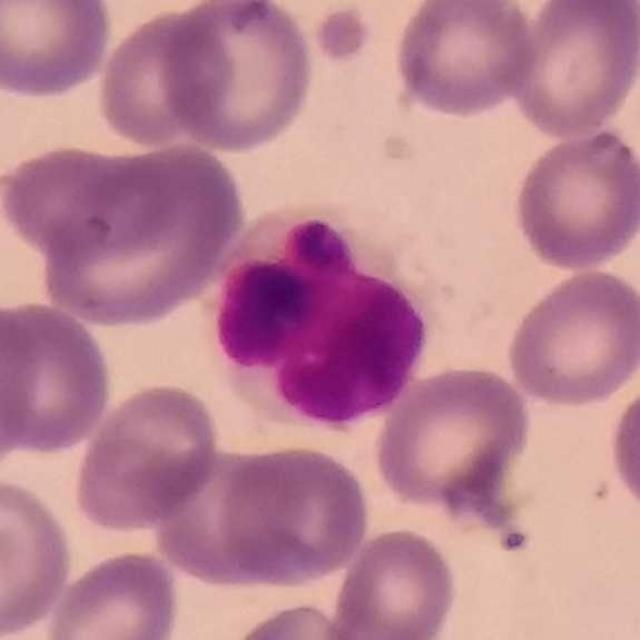Lymphocyte: (211, 192, 467, 432)
Platelets: (312, 2, 374, 67)
RBC: (34, 137, 248, 330), (369, 360, 536, 522), (156, 0, 317, 155), (145, 441, 305, 593), (213, 441, 374, 591), (70, 377, 223, 533), (92, 3, 230, 152), (502, 264, 640, 409), (508, 126, 640, 274), (0, 296, 117, 459), (504, 0, 640, 140), (389, 0, 540, 119), (0, 140, 140, 260), (326, 523, 461, 640), (41, 546, 183, 640), (0, 472, 77, 639), (0, 0, 116, 101), (0, 293, 39, 476), (222, 599, 370, 640), (604, 373, 640, 523)
